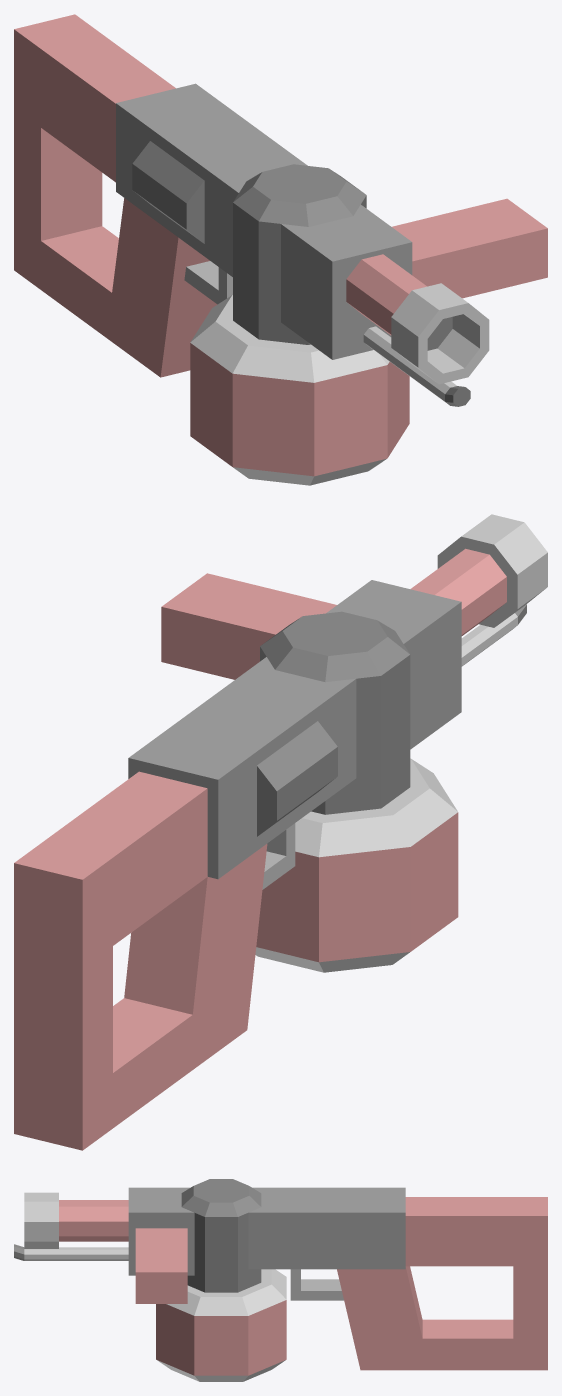
File: flamethrowerHandle.glb
3 views of the same model, one above another, from view 1: azimuth 30°, elevation 25°; view 2: azimuth 150°, elevation 25°; view 3: azimuth 270°, elevation 25° (orthographic). The views are drawn at different scales.
Visible parts, largest first — view 1: Mesh2 Group3 Group1 Model, Mesh1 Group2 Group1 Model; view 2: Mesh2 Group3 Group1 Model, Mesh1 Group2 Group1 Model; view 3: Mesh2 Group3 Group1 Model, Mesh1 Group2 Group1 Model.
Boxes of the visible parts, bbox=[...] form: Mesh2 Group3 Group1 Model: bbox=[14, 14, 547, 406]; Mesh1 Group2 Group1 Model: bbox=[190, 295, 409, 485]; Mesh2 Group3 Group1 Model: bbox=[14, 514, 547, 1150]; Mesh1 Group2 Group1 Model: bbox=[255, 758, 458, 972]; Mesh2 Group3 Group1 Model: bbox=[14, 1179, 547, 1370]; Mesh1 Group2 Group1 Model: bbox=[156, 1269, 286, 1381].
Bounding box in the file's own units: 0.0344 × 0.0324 × 0.0923.
